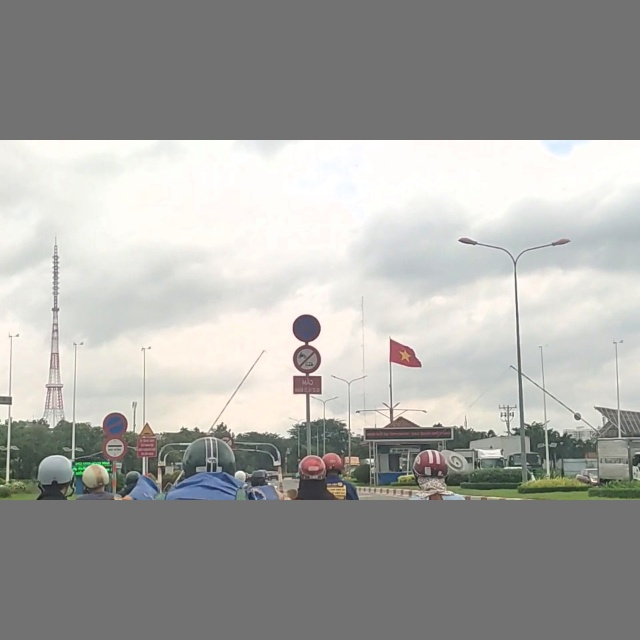P.111: (293, 345, 321, 373)
P.129: (103, 437, 127, 459)
P.130: (292, 313, 322, 342)
P.131a: (102, 412, 128, 435)
W.221b: (139, 421, 156, 437)
